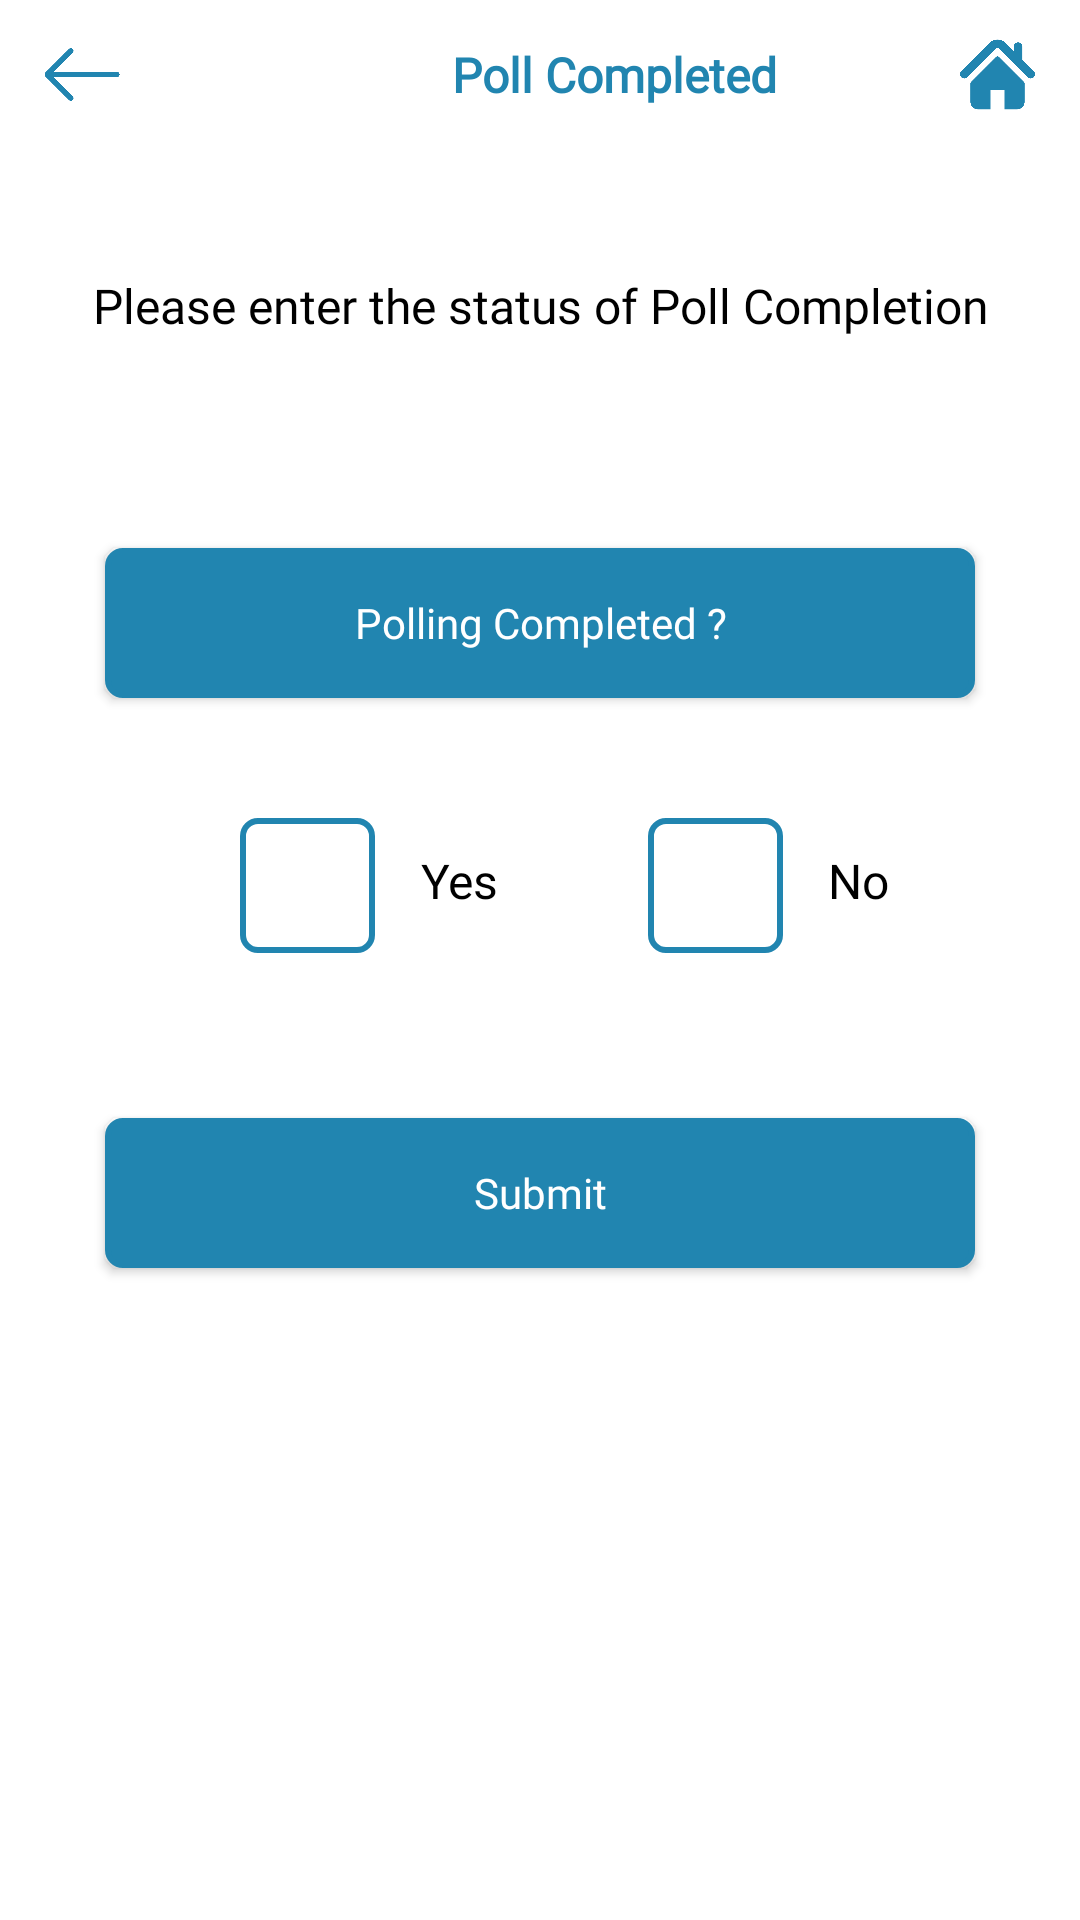

Icons on this 1080w x 1920h Android screen, each with its box as box(x1, y1, x2, y2):
back: box(45, 48, 120, 101)
home: box(960, 39, 1035, 110)
